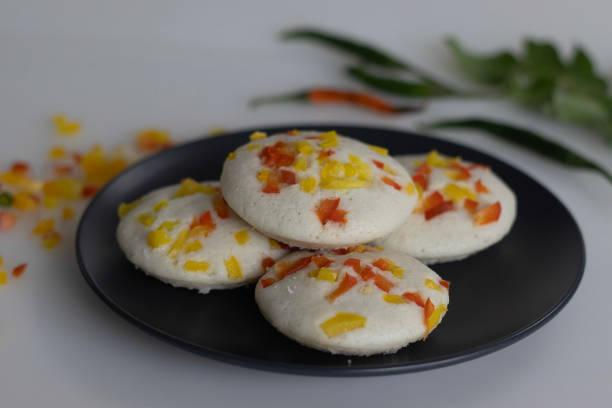idli: (114, 131, 521, 360)
